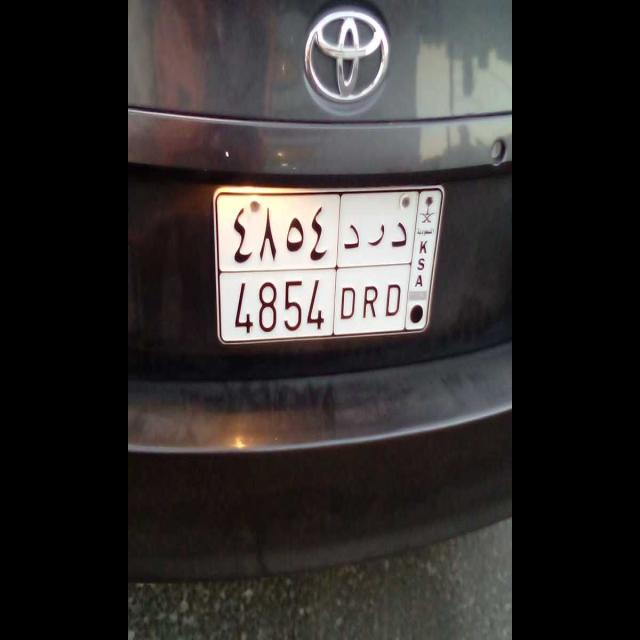license_plate: (222, 267, 405, 339)
